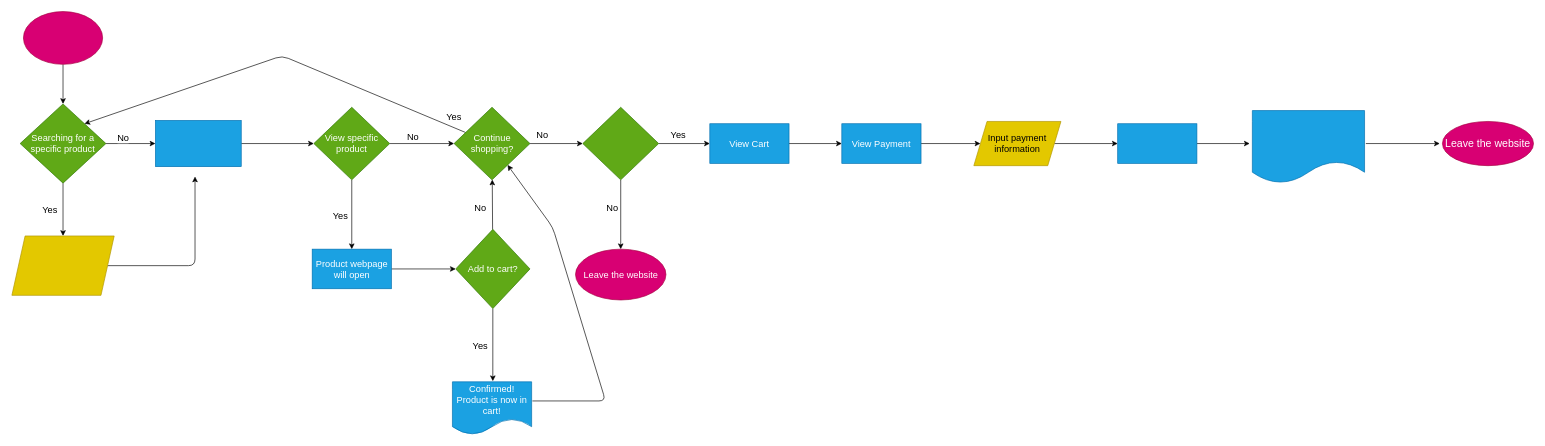
Image size: 1545x446. Some labels were removed from this diagram. Each missing label, with the box of its shape:
Begin looking over products: (155, 120, 241, 167)
Checkout?: (582, 107, 659, 180)
Input what product to look for: (11, 235, 114, 295)
Order confirmed! And email sent/recieved confirming the order: (1252, 110, 1365, 183)
Pay: (1117, 123, 1197, 163)
Start (Enter website): (23, 11, 103, 64)
